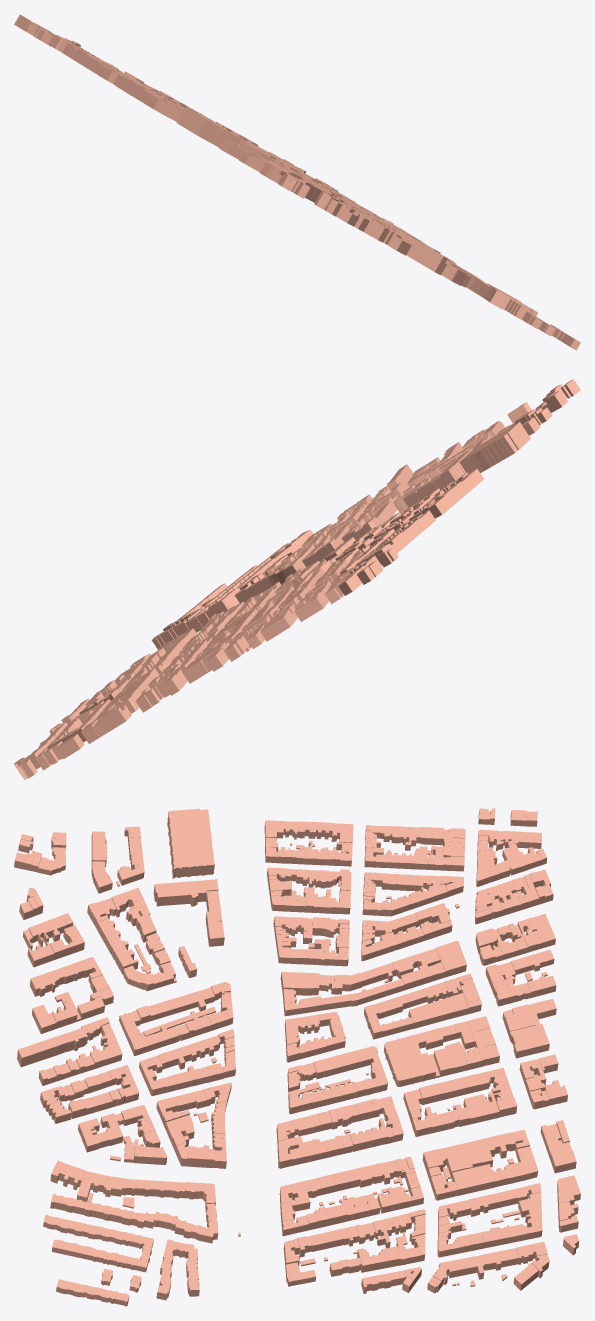
The picture shows the model from 3 angles, top to bottom: view 1: azimuth 30°, elevation 25°; view 2: azimuth 150°, elevation 25°; view 3: azimuth 270°, elevation 25°; orthographic projection. The views are drawn at different scales.
Bounding box in the file's own units: 531 × 399 × 646.
